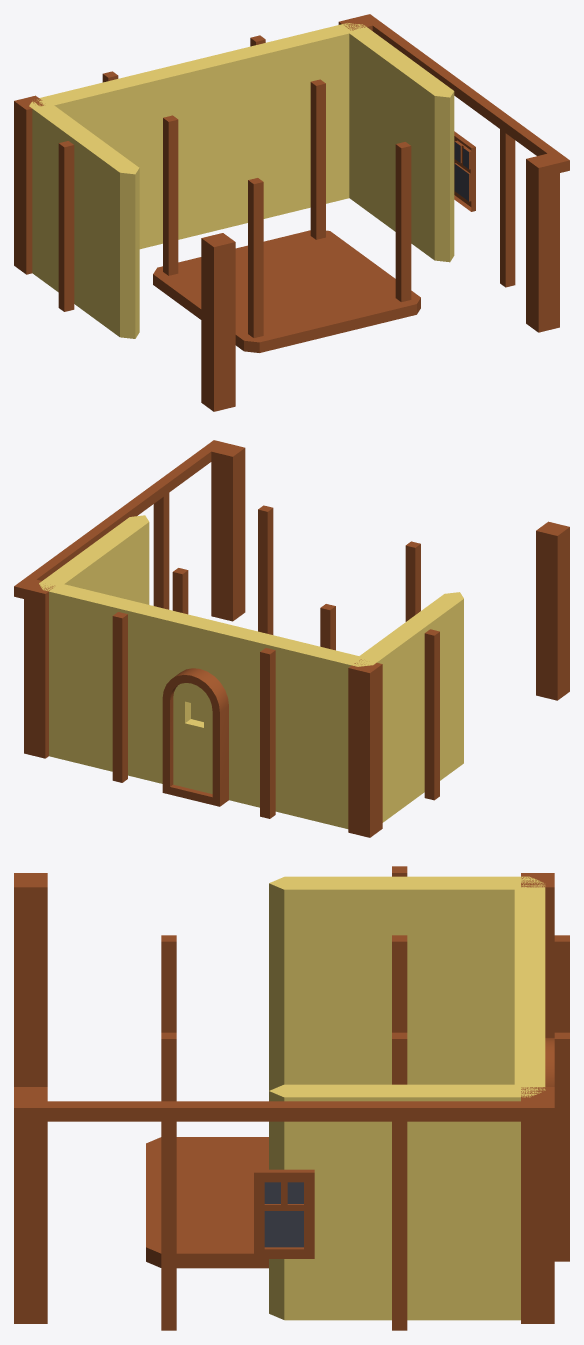
File: Maison1_construct.fbx
The picture shows the model from 3 angles, top to bottom: view 1: azimuth 30°, elevation 25°; view 2: azimuth 150°, elevation 25°; view 3: azimuth 270°, elevation 25°; orthographic projection. The views are drawn at different scales.
Parts seen in each view (by area): view 1: wall_corner_423, wall_corner_426, floor_square_451, structure_poles_431, structure_poles_450, structure_pole_435, structure_pole_437, structure_pole_434, window_detail_446; view 2: wall_corner_426, wall_corner_423, structure_poles_431, door_round_428, structure_poles_450, structure_pole_435, structure_pole_437, structure_pole_432, structure_pole_430, structure_pole_434; view 3: wall_corner_426, wall_corner_423, structure_poles_431, floor_square_451, structure_pole_435, window_detail_446, structure_poles_450, structure_pole_430, structure_pole_433, structure_pole_434, structure_pole_432.
Part boxes in pixels (x1,y1,x2,y2): wall_corner_423: (186, 23, 454, 262); wall_corner_426: (29, 61, 205, 338); floor_square_451: (153, 230, 420, 352); structure_poles_431: (14, 16, 559, 411); structure_poles_450: (163, 79, 411, 337); structure_pole_435: (360, 14, 569, 172); structure_pole_437: (58, 141, 74, 311); structure_pole_434: (500, 118, 515, 287); window_detail_446: (454, 131, 475, 211); wall_corner_426: (197, 592, 463, 828); wall_corner_423: (39, 515, 215, 783); structure_poles_431: (24, 442, 569, 837); door_round_428: (162, 668, 228, 806); structure_poles_450: (172, 505, 420, 650); structure_pole_435: (14, 440, 223, 598); structure_pole_437: (424, 629, 439, 800); structure_pole_432: (260, 648, 275, 818); structure_pole_430: (112, 612, 127, 782); structure_pole_434: (153, 480, 169, 609); wall_corner_426: (269, 876, 545, 1090); wall_corner_423: (269, 981, 545, 1320); structure_poles_431: (14, 873, 554, 1323); floor_square_451: (146, 1137, 268, 1268); structure_pole_435: (14, 1101, 554, 1121); window_detail_446: (254, 1169, 314, 1258); structure_poles_450: (161, 935, 407, 1101); structure_pole_430: (554, 1032, 569, 1261); structure_pole_433: (392, 1101, 407, 1330); structure_pole_434: (161, 1101, 176, 1330); structure_pole_432: (554, 935, 569, 1032).
Size of the model in its own units: 23.25 by 10 by 22.62.
